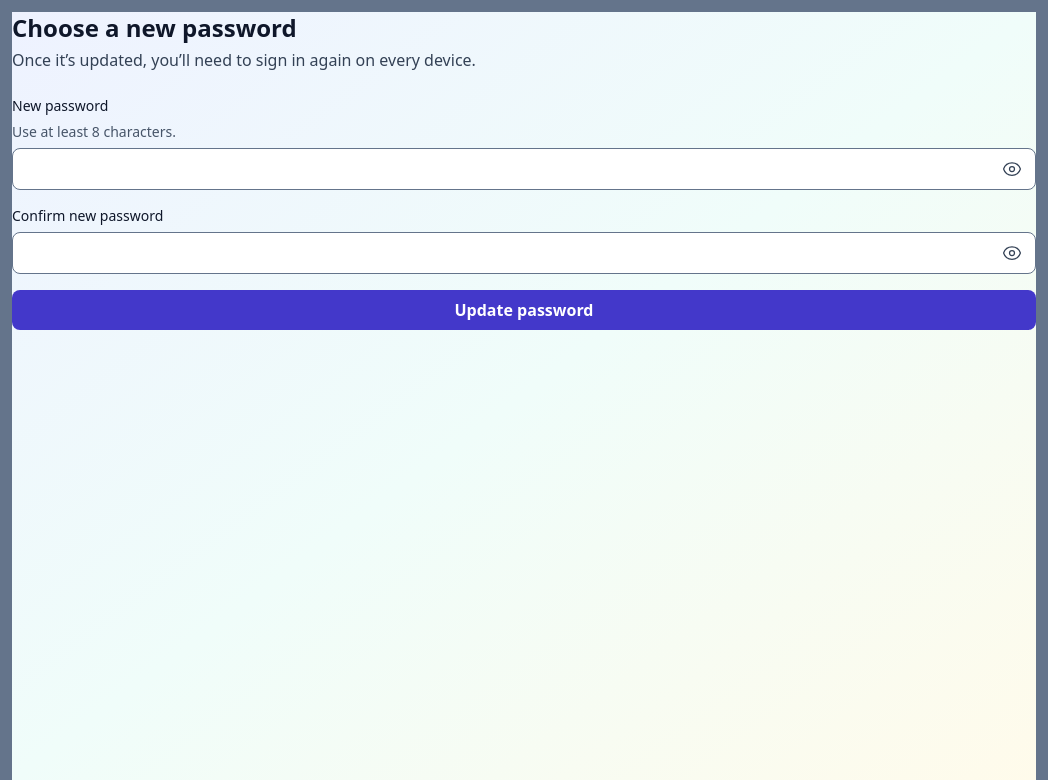
Test case: ResetPasswordForm › errors › shows service_unavailable in the alert and keeps the form
Type "correct horse" into the password field labelled "New password".
click(524, 169); type("correct horse")  # box [12,148,1036,190]
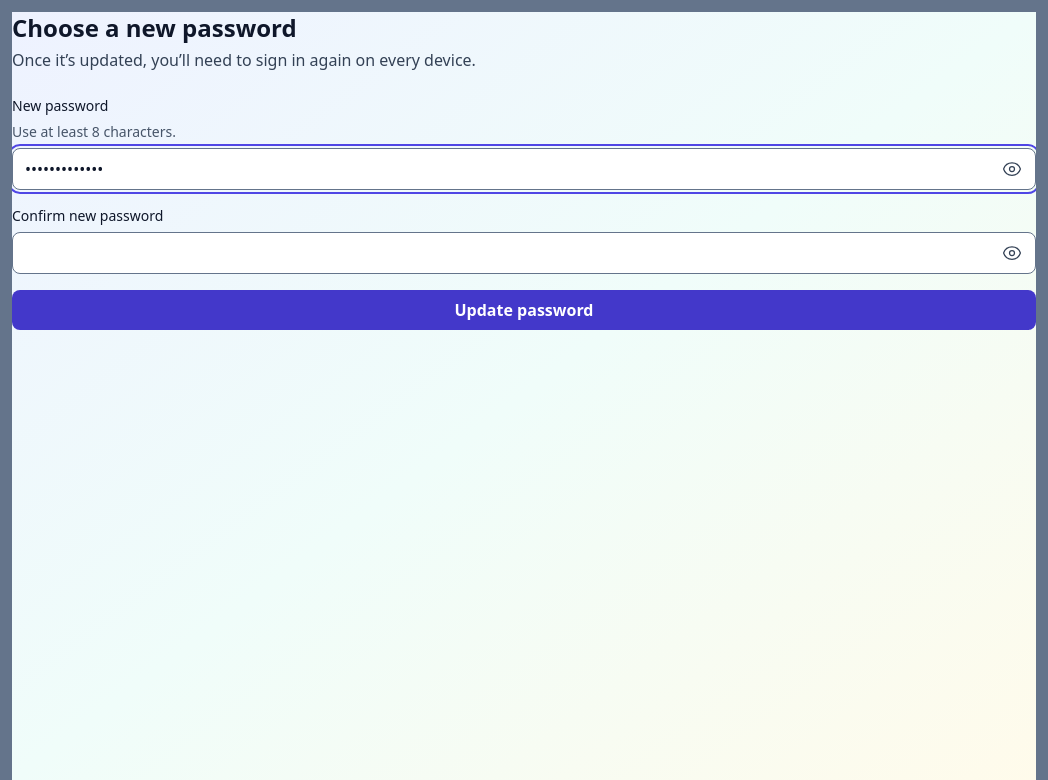
Type "correct horse" into the password field labelled "Confirm new password".
click(524, 253); type("correct horse")  # box [12,232,1036,274]
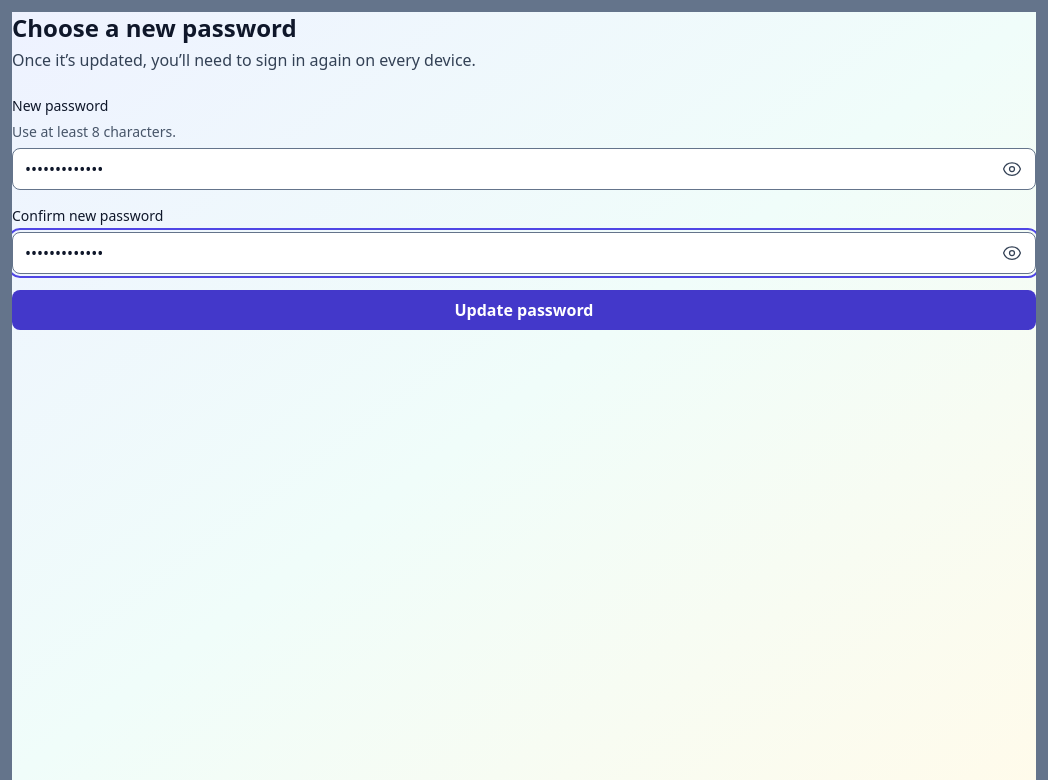
Click the button "Update password".
click(524, 310)  # box [12,290,1036,330]
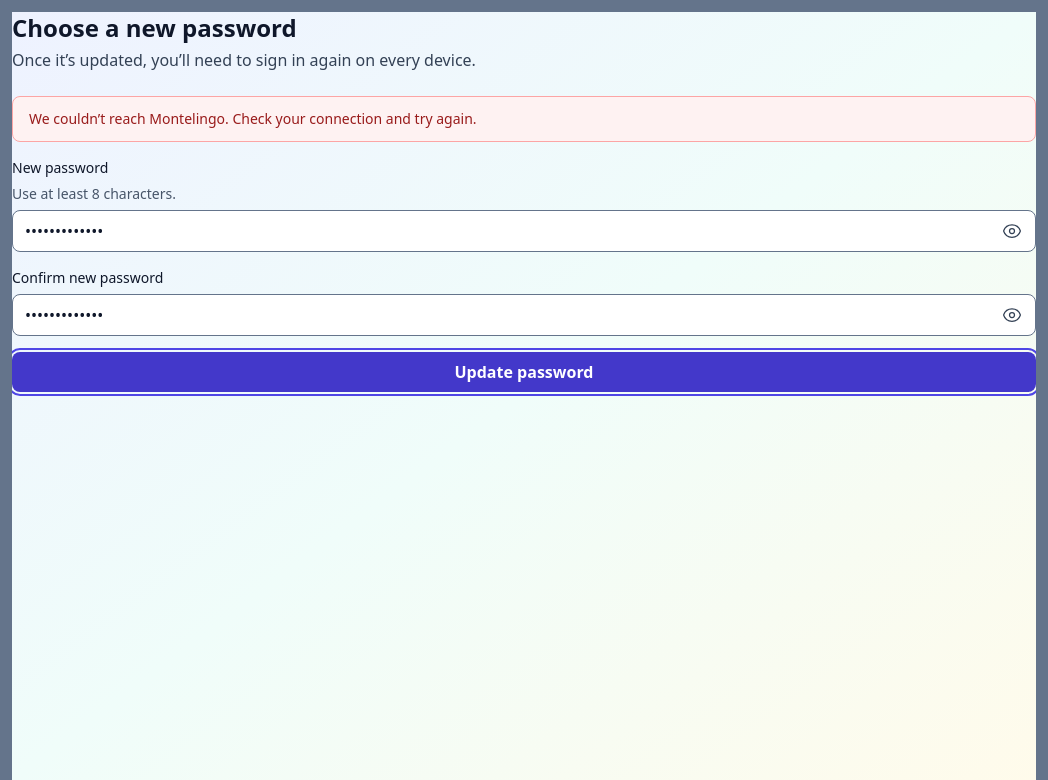
Expected: the form named "Choose a new password" is shown, [12,96,1036,392]
Result: the message reads "We couldn’t reach Montelingo. Check your connection and try again." at [29,109,476,128]
